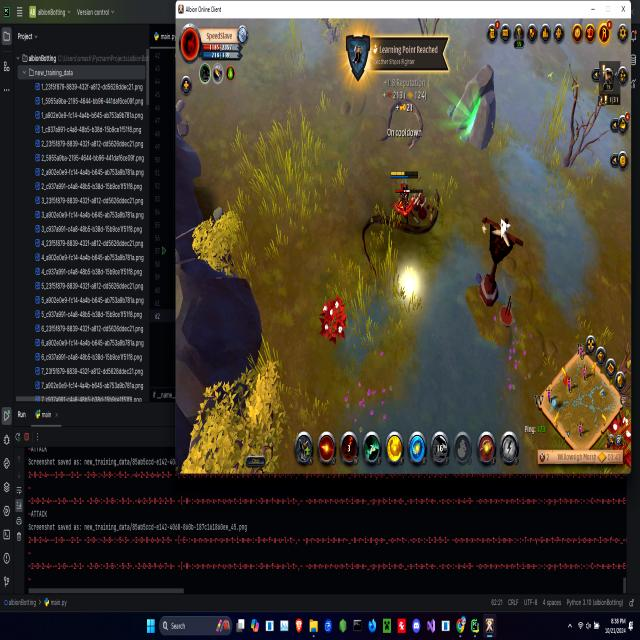hide: (314, 298, 350, 347), (607, 415, 633, 471)
ore: (362, 181, 443, 270)
red: (388, 166, 419, 227)
